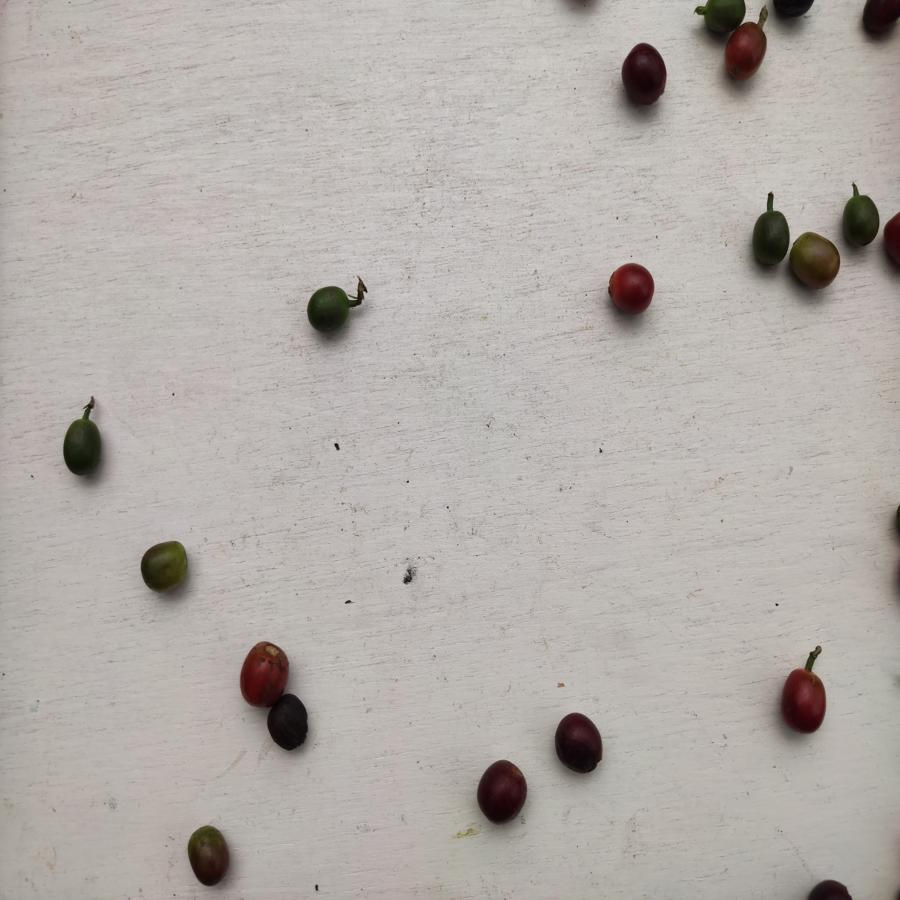Inmaduro: (303, 280, 353, 338), (59, 421, 106, 477), (751, 208, 789, 267), (843, 194, 879, 252), (701, 1, 748, 22)
Maduro: (780, 665, 827, 736), (726, 23, 771, 85), (240, 640, 292, 693), (609, 261, 657, 315)
Pinton: (136, 541, 194, 599), (185, 824, 235, 888), (792, 228, 841, 289)
Sobremaduro: (550, 710, 606, 776), (476, 759, 530, 824), (620, 41, 669, 108), (266, 694, 313, 751)
